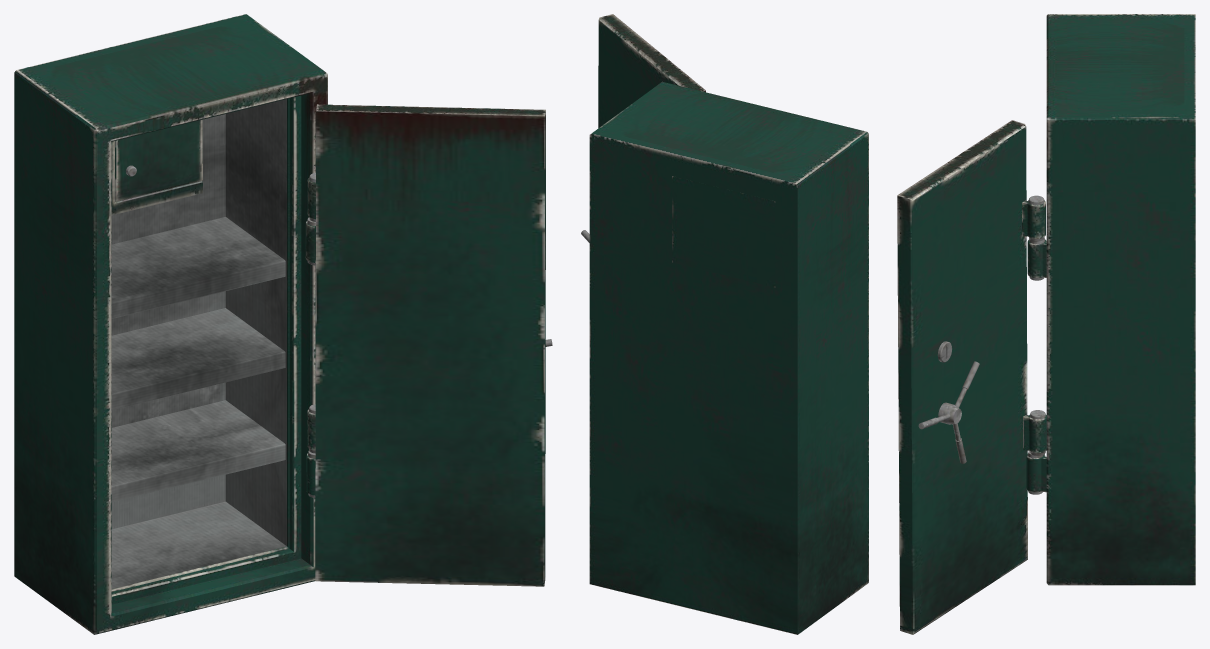
File: Green_Gun_Cabinet_Open.fbx
The picture shows the model from 3 angles, left to right: view 1: azimuth 30°, elevation 25°; view 2: azimuth 150°, elevation 25°; view 3: azimuth 270°, elevation 25°; orthographic projection. The views are drawn at different scales.
Parts seen in each view (by area): view 1: pasted__pTorus1; view 2: pasted__pTorus1; view 3: pasted__pTorus1.
Part boxes in pixels (x1,y1,x2,y2): pasted__pTorus1: [14, 14, 552, 634]; pasted__pTorus1: [581, 14, 868, 634]; pasted__pTorus1: [897, 14, 1195, 634].
Bounding box in the file's own units: 242 × 300 × 174.
Materials: 3 (3 with a texture image).
